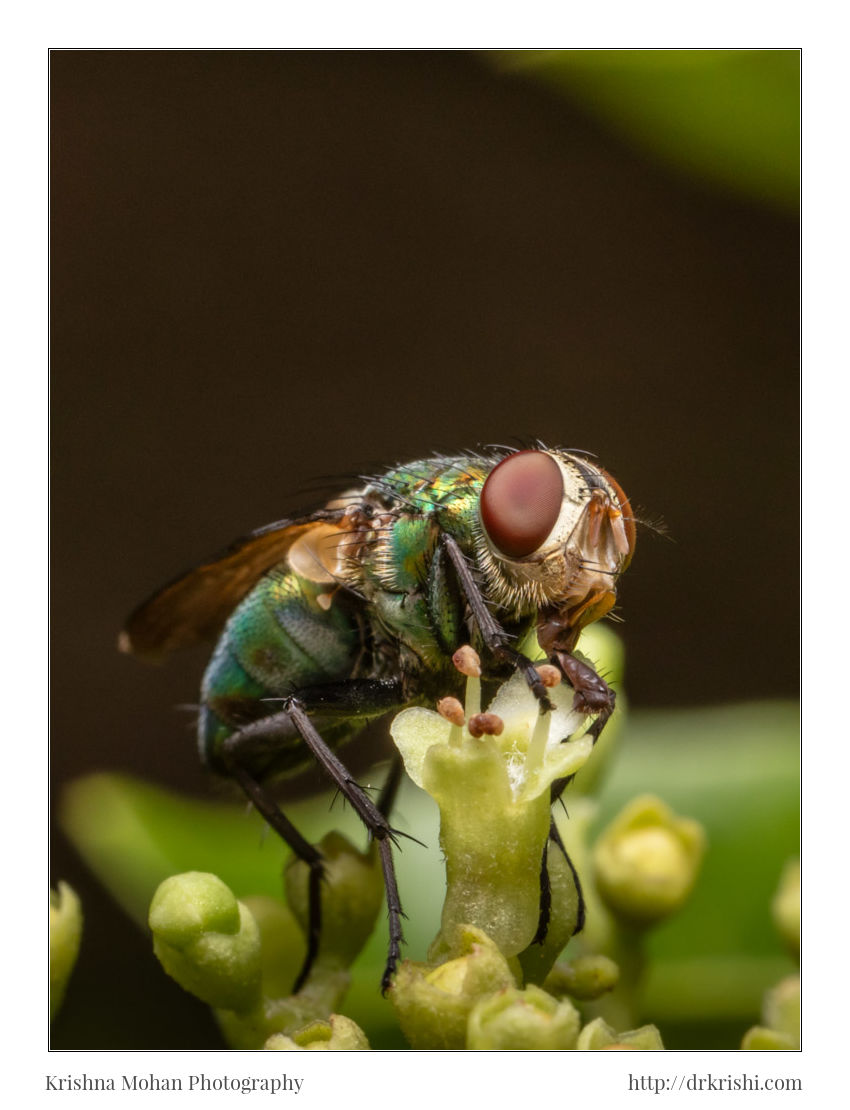green bottles flies: (99, 377, 734, 923)
